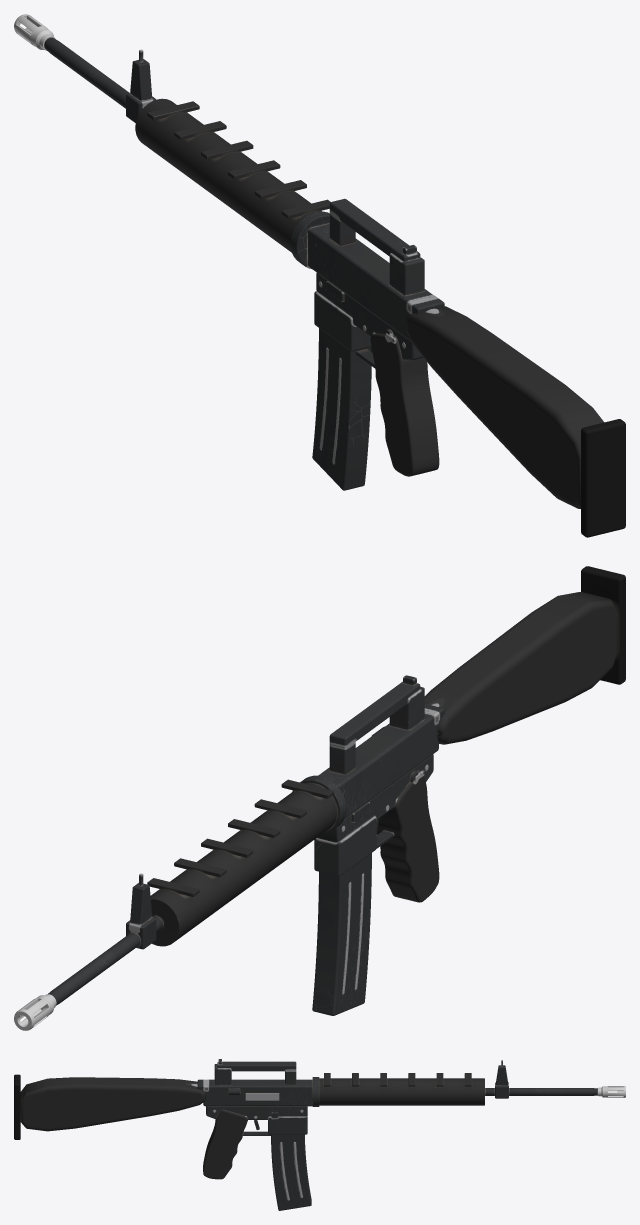
The picture shows the model from 3 angles, top to bottom: view 1: azimuth 30°, elevation 25°; view 2: azimuth 150°, elevation 25°; view 3: azimuth 270°, elevation 25°; orthographic projection. The views are drawn at different scales.
Visible parts, largest first — view 1: Frame, Stock, Mag_body, FlashHider; view 2: Frame, Stock, Mag_body, FlashHider; view 3: Frame, Stock, Mag_body, FlashHider.
Part boxes in pixels (x1,y1,x2,y2): Frame: (44, 37, 444, 476); Stock: (406, 306, 625, 537); Mag_body: (312, 328, 371, 490); FlashHider: (14, 14, 55, 50); Frame: (48, 675, 444, 1005); Stock: (424, 566, 625, 744); Mag_body: (312, 853, 371, 1015); FlashHider: (14, 994, 56, 1030); Frame: (197, 1059, 597, 1179); Stock: (14, 1074, 205, 1139); Mag_body: (271, 1134, 311, 1210); FlashHider: (597, 1086, 625, 1097).
Size of the model in its own units: 0.054 by 0.2901 by 1.09.
